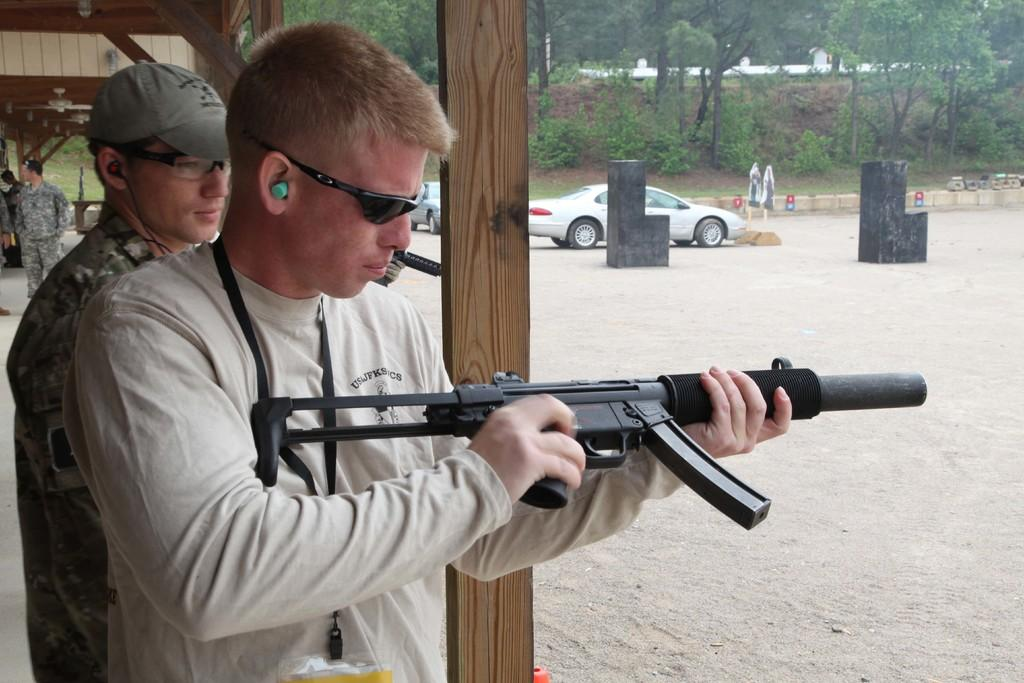Rifle: (248, 360, 926, 525)
